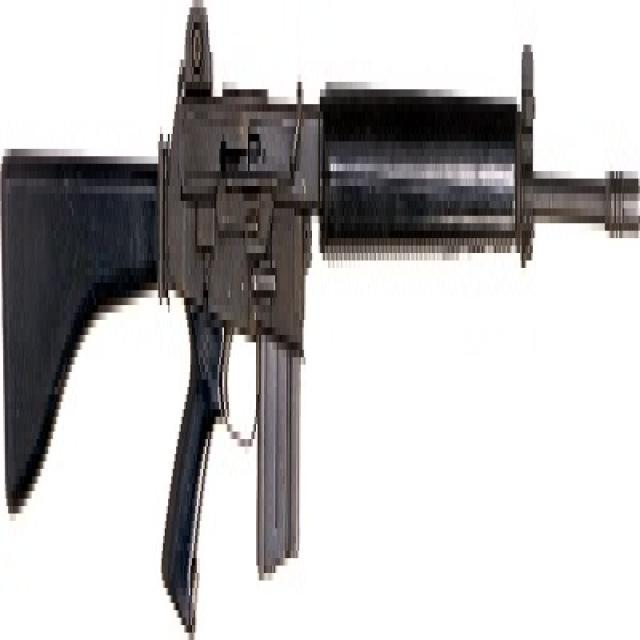rifle: (1, 8, 640, 637)
